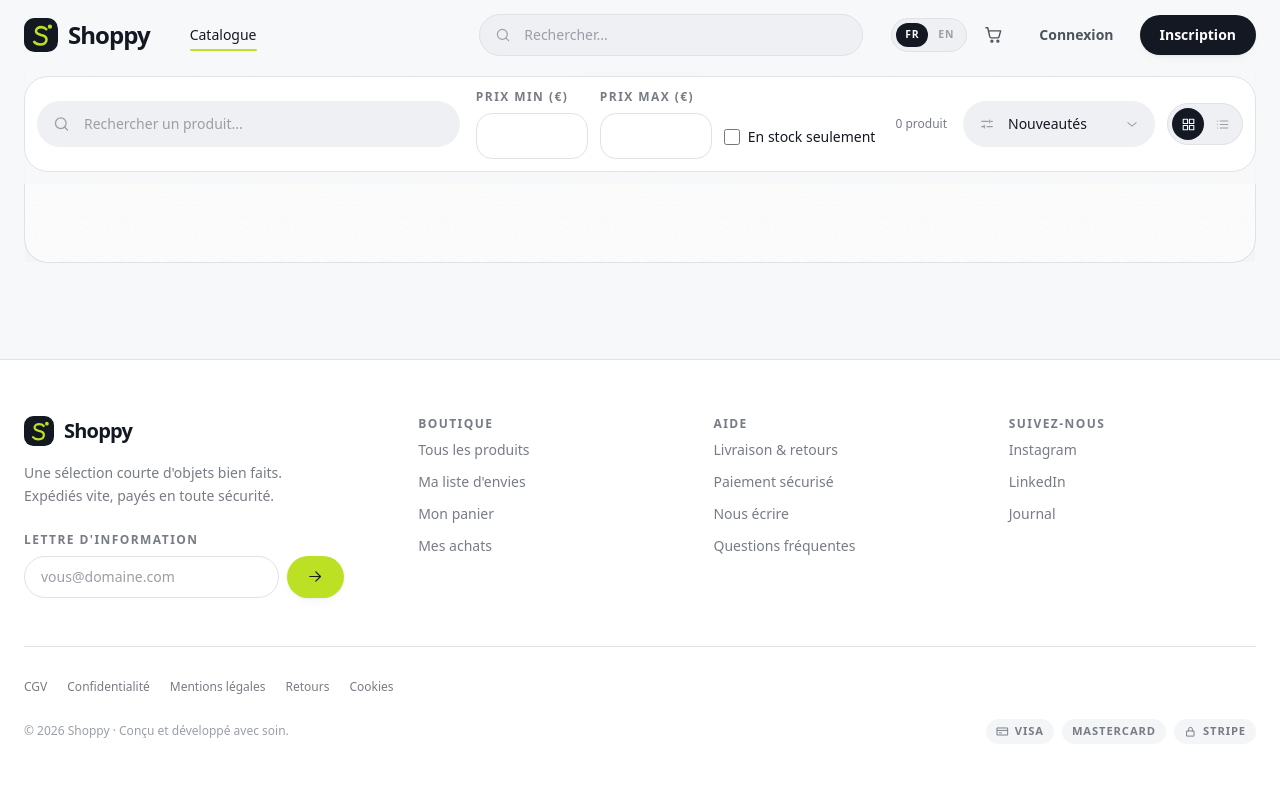
Test case: NewsletterForm › shows an error when subscribe fails
(page scrolled)
Type "ada@shoppy.test" into the field labelled "Lettre d'information". click: (152, 577)
box: [24, 556, 279, 598]
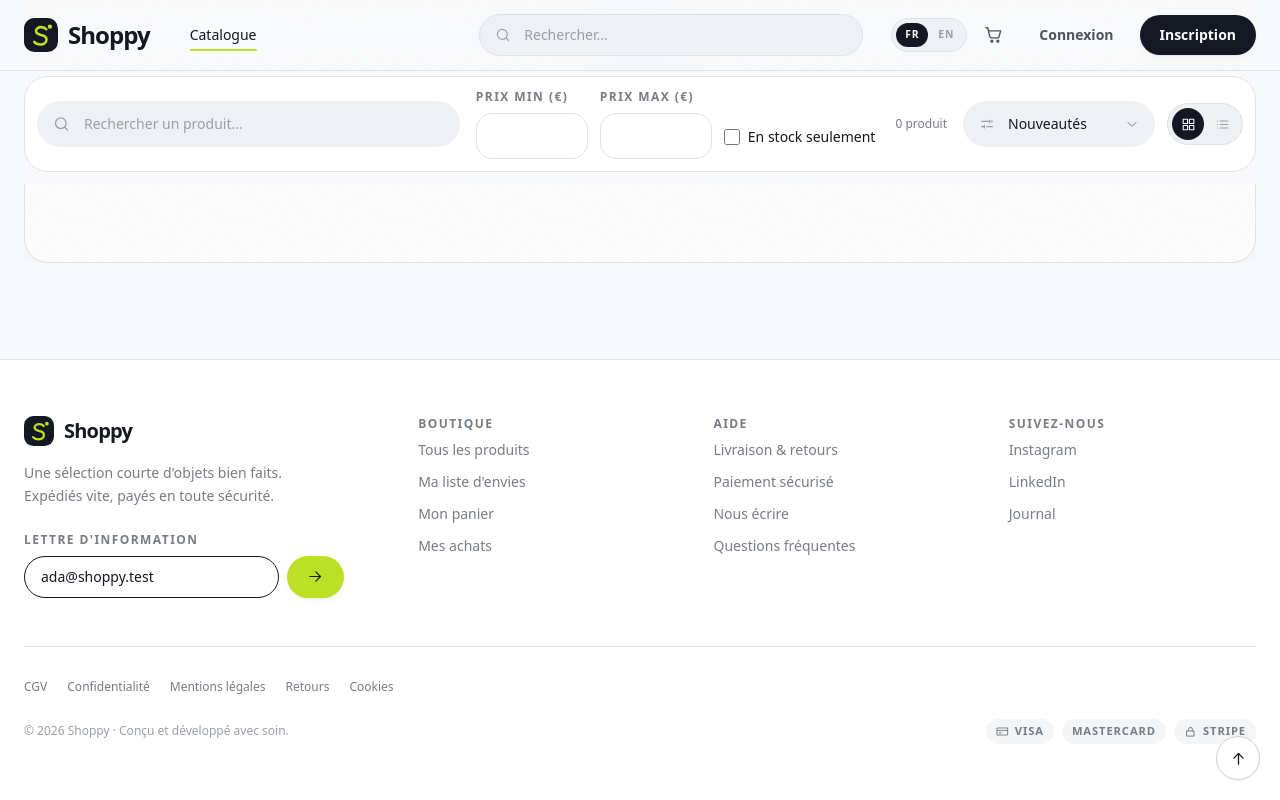
Click the button named "S'abonner". click: (316, 577)
box: [287, 556, 344, 598]
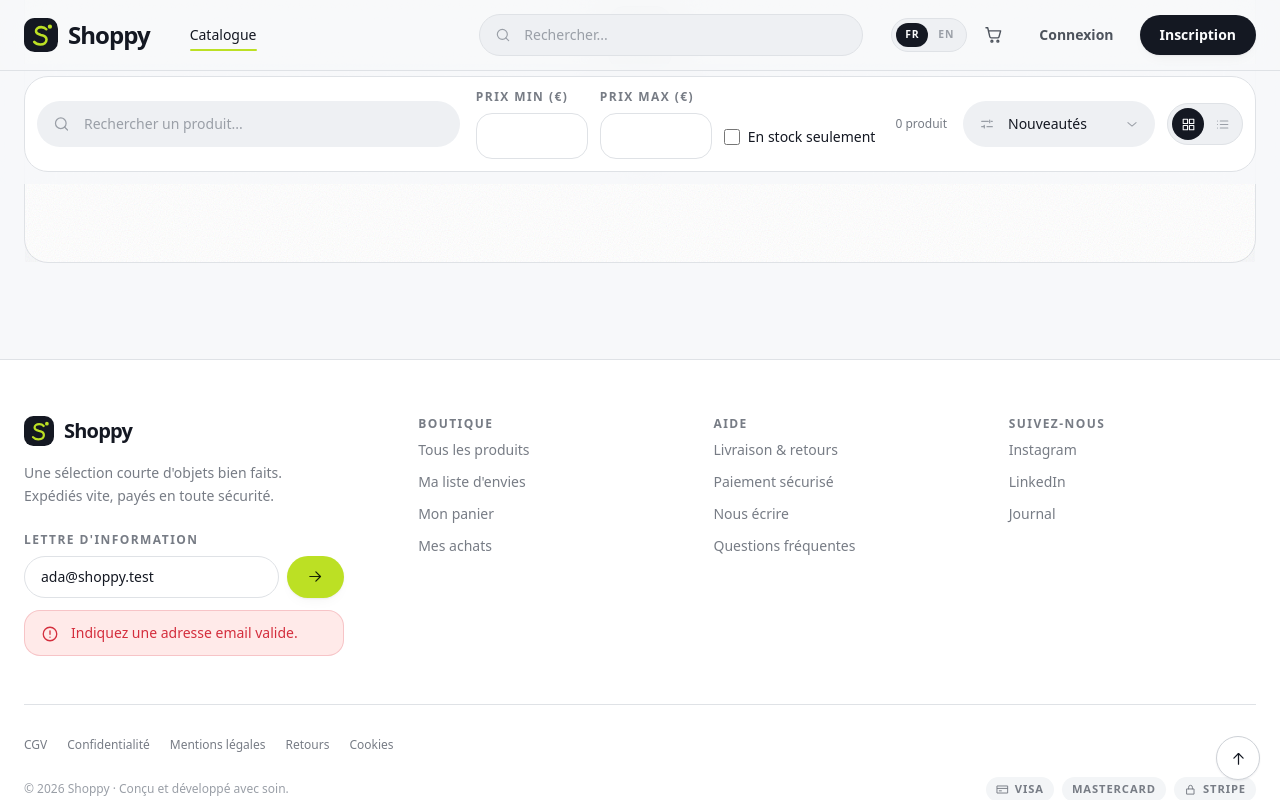
Result: the message shows "adresse email valide" at [71, 623, 298, 642]
